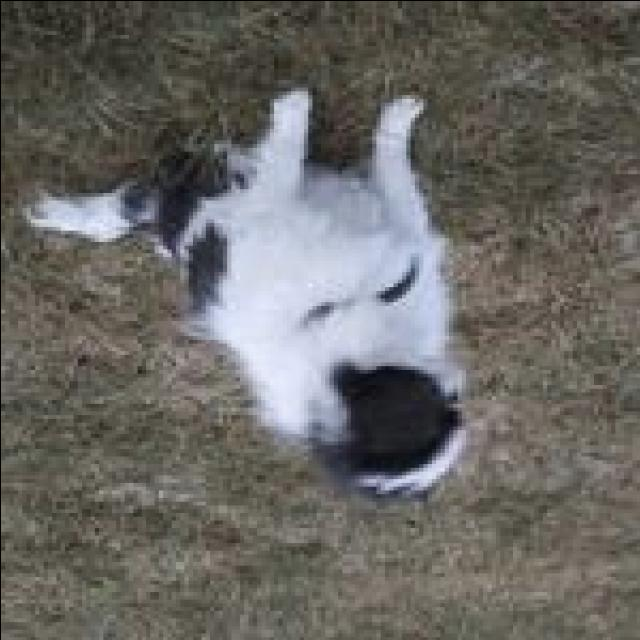husky: (21, 98, 486, 512)
